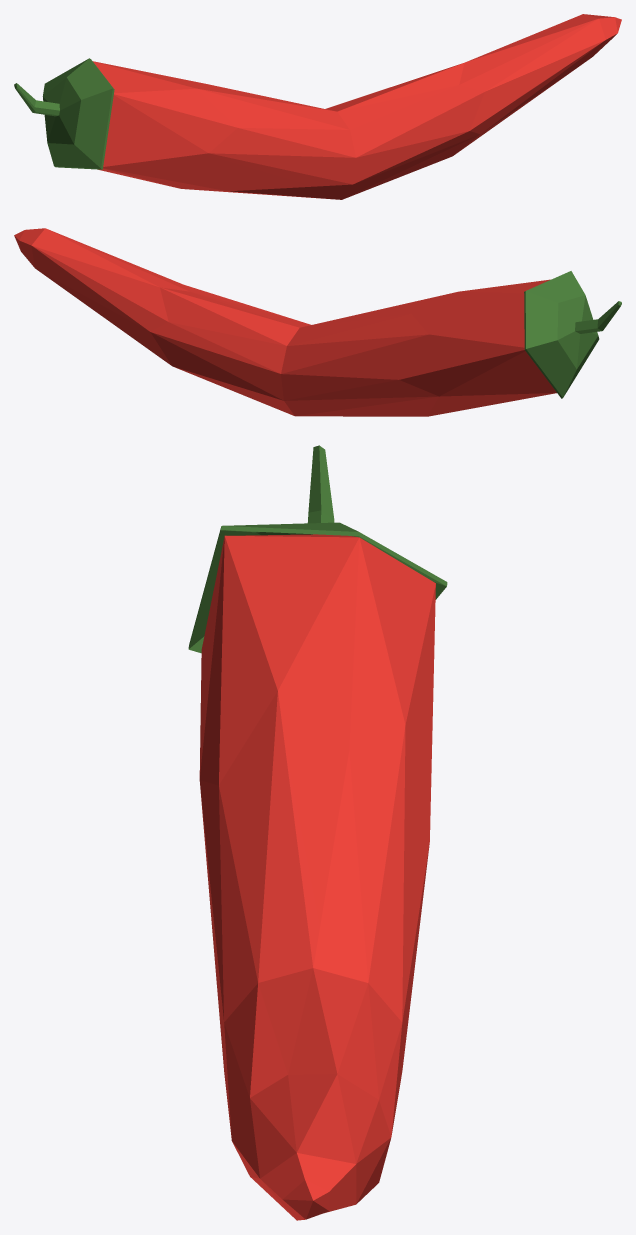
The model's file is SM_Food_Chili_01.fbx.
3 views of the same model, one above another, from view 1: azimuth 30°, elevation 25°; view 2: azimuth 150°, elevation 25°; view 3: azimuth 270°, elevation 25° (orthographic). The views are drawn at different scales.
Parts seen in each view (by area): view 1: SM_Food_Chili_01; view 2: SM_Food_Chili_01; view 3: SM_Food_Chili_01.
Boxes of the visible parts, x1=… form: SM_Food_Chili_01: x1=14, y1=14, x2=621, y2=199; SM_Food_Chili_01: x1=14, y1=228, x2=621, y2=416; SM_Food_Chili_01: x1=188, y1=445, x2=447, y2=1220.
Bounding box in the file's own units: 0.1784 × 0.0534 × 0.033.
